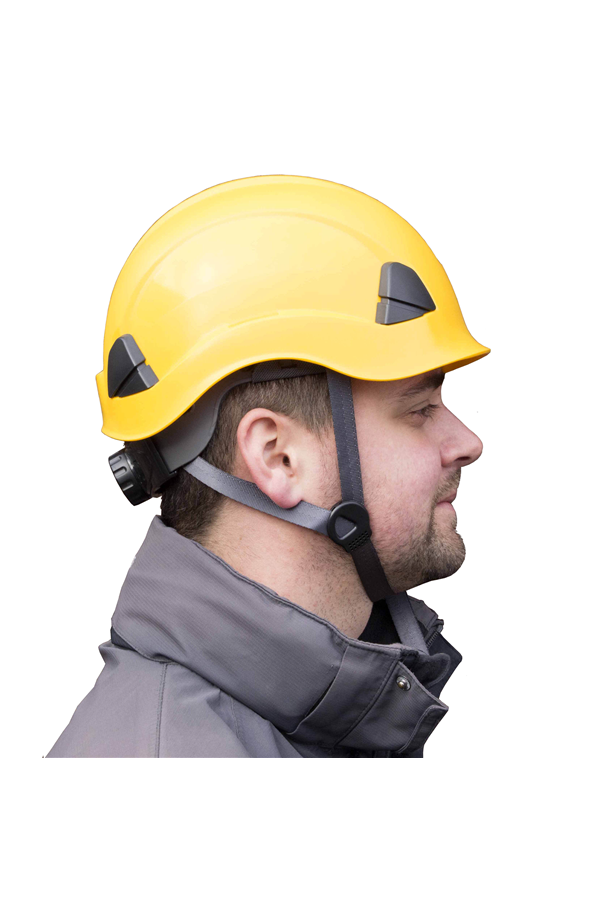Person_wearing_helmet: (90, 148, 496, 476)
